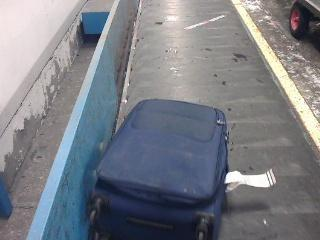Suitcase: (91, 100, 228, 239)
